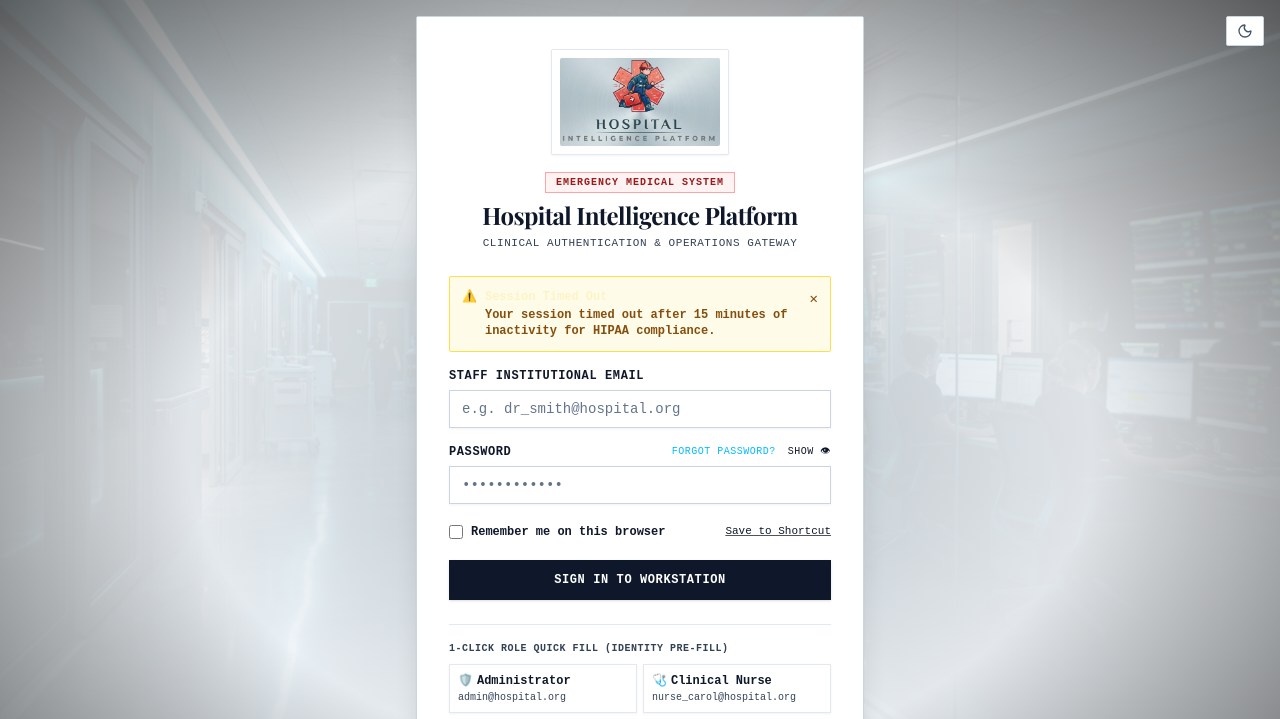
Test: Login Page › displays inactivity timeout alert when sessionStorage notice is present and clears storage
Expected: the message is shown, [449,276,831,352]
Expected: the text "Session Timed Out" is shown, [485,290,607,304]
# Verify clicking dismiss removes it from screen
Step 1. Click the button named "Dismiss timeout notice" → {"x": 814, "y": 298}, box [810,288,818,308]
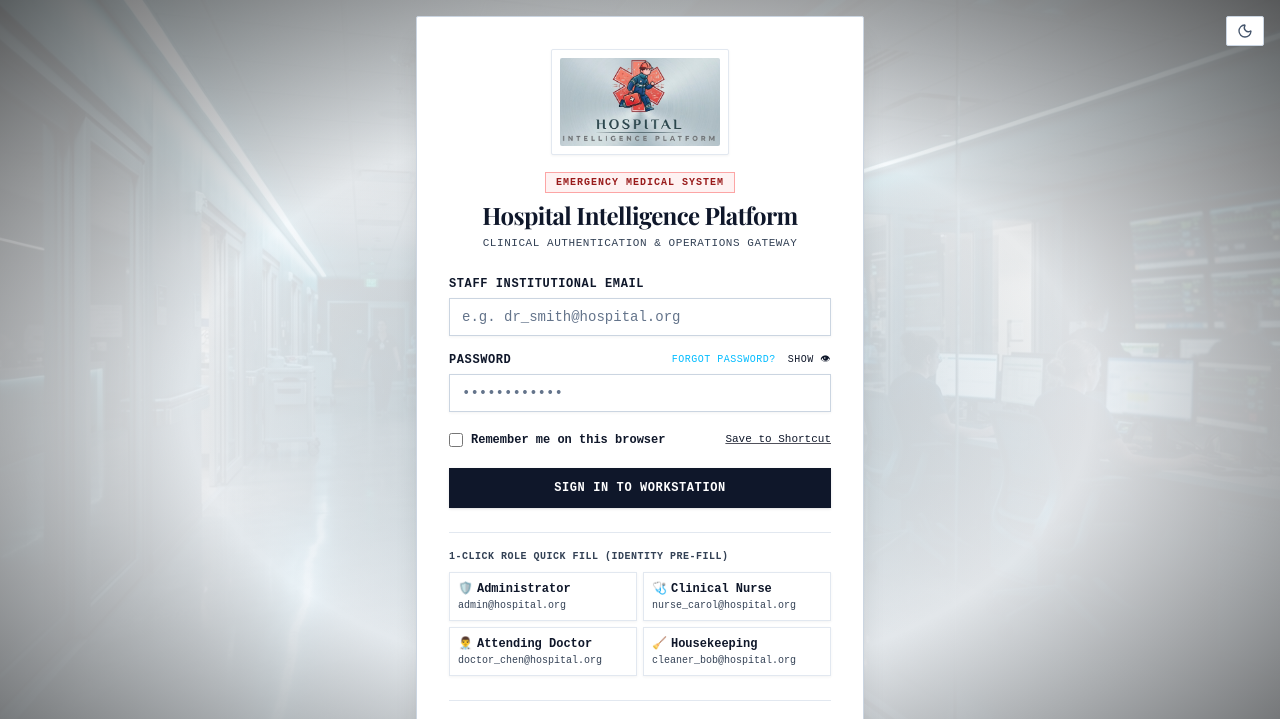
Result: the text "Session Timed Out" is gone
